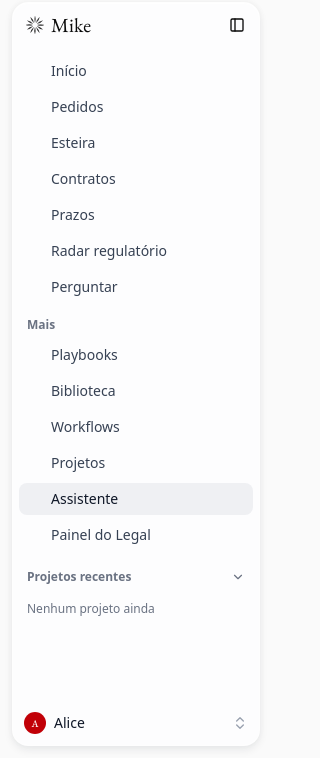
Test: AppSidebar account dropdown › keeps Memory and My Activity navigation inside Settings
This screenshot has width=320, height=758.
Click the button "A Alice" at x=136, y=723, box [17,705,255,741]
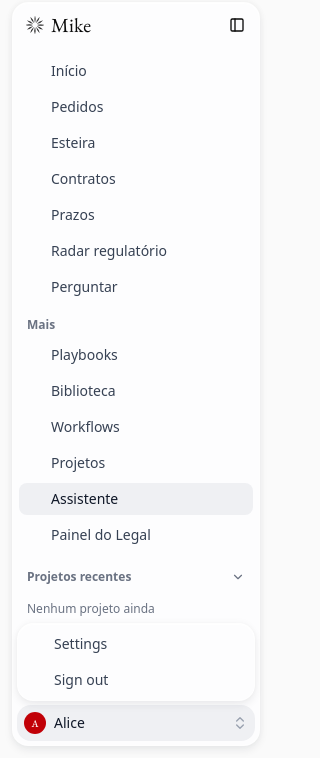
Result: the menu item "Settings" is shown at [54,634,107,653]
